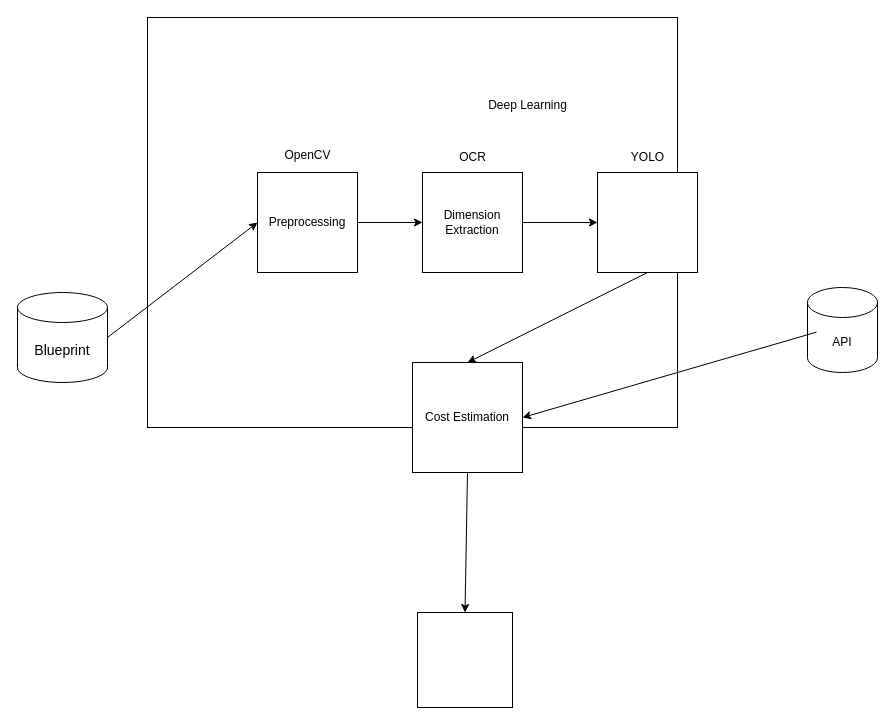
This 895x725 diagram has some shape labels left out. The shapes that lost their labels are listed below. From the top down, each one's centre as x and y in pixels, then its label:
point (647, 222): Object Detection
point (464, 660): Report Generation
